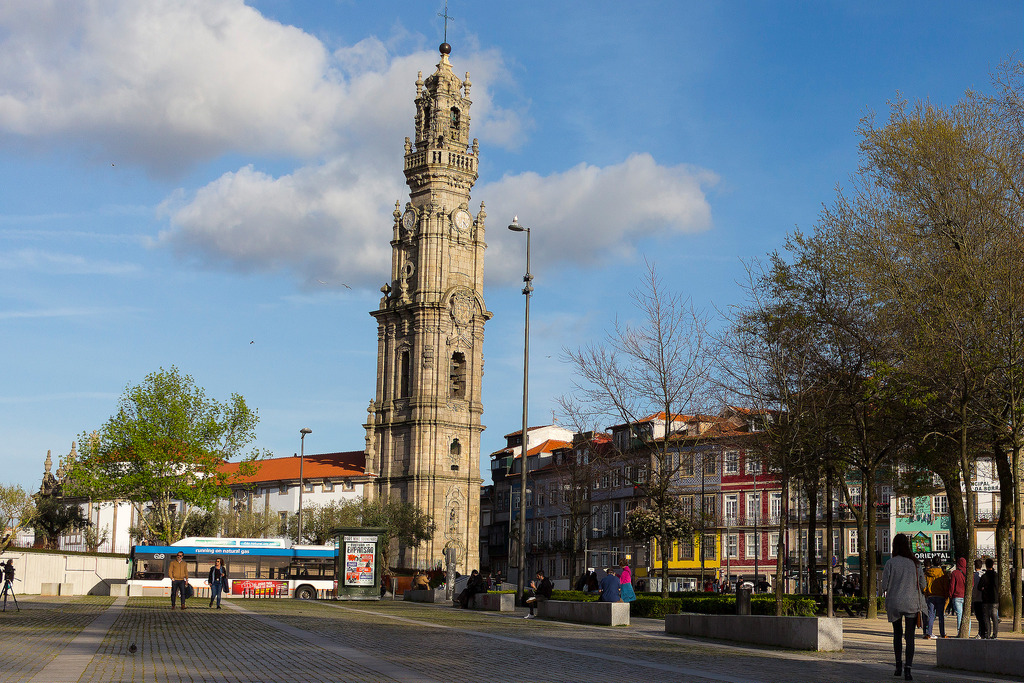clerigos: (360, 10, 496, 572)
